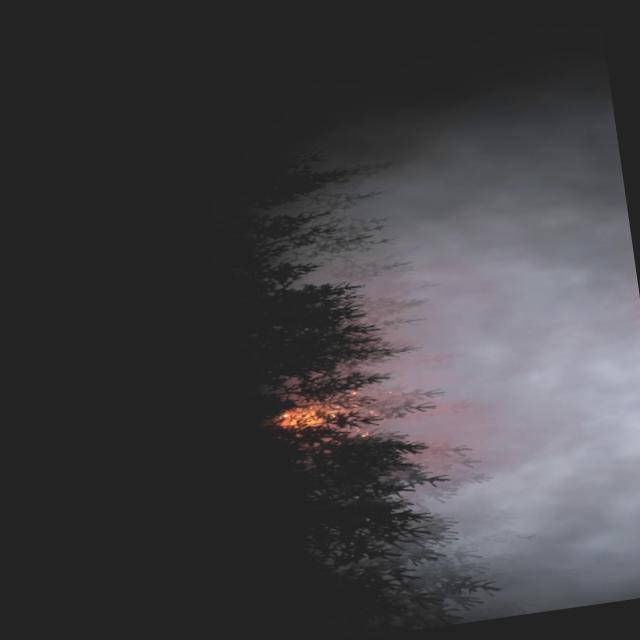fire: (274, 387, 369, 445)
smoke: (250, 123, 640, 640)
